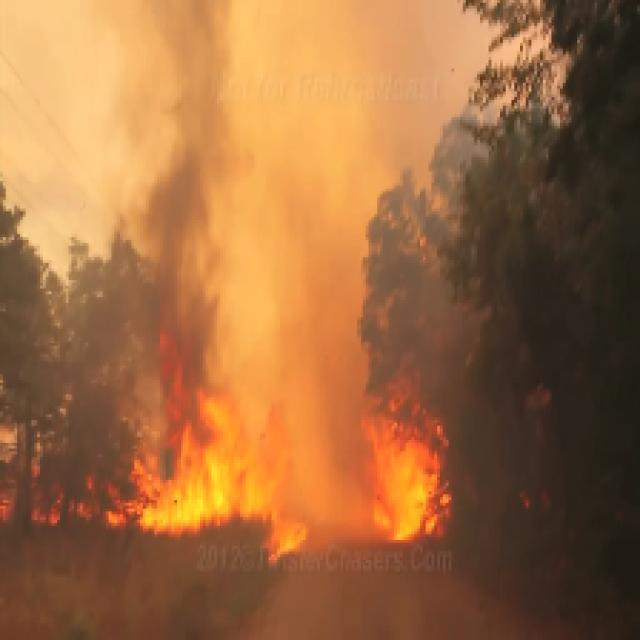Fire: (0, 366, 557, 594)
Smoke: (74, 0, 611, 351)
